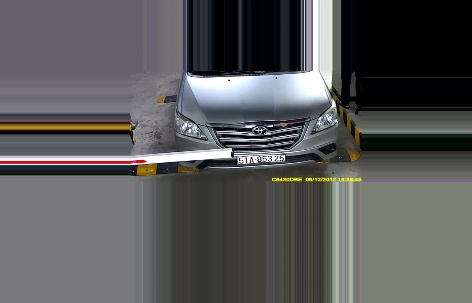plate: (234, 149, 287, 167)
